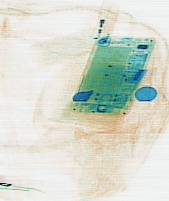lighter: (91, 0, 121, 46)
